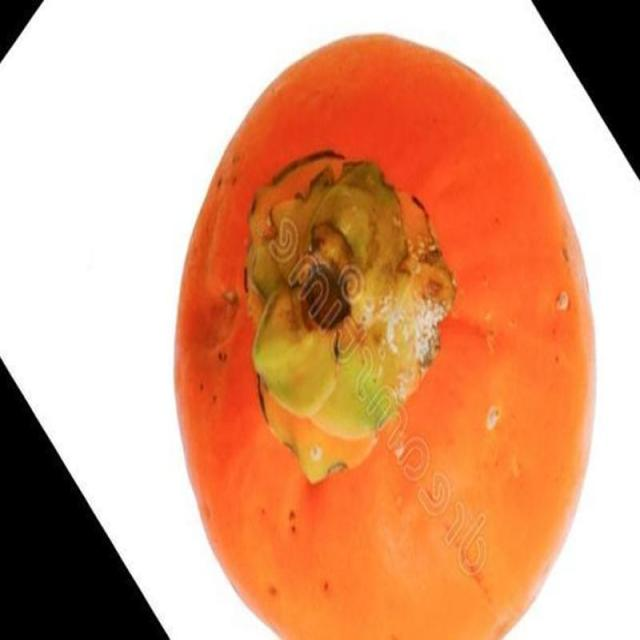good: (172, 34, 598, 639)
